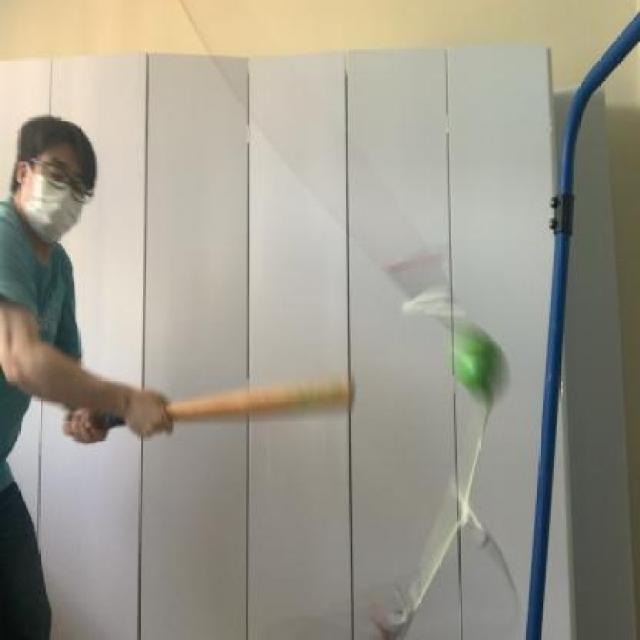baseball: (442, 323, 513, 405)
